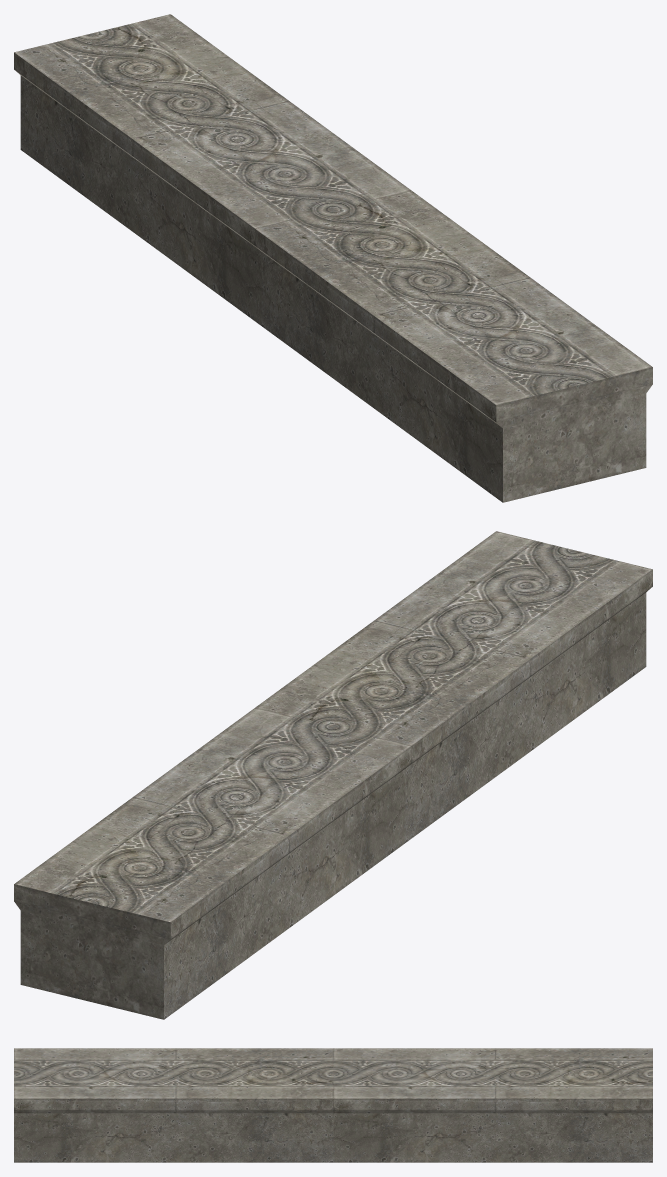
The model's file is bg_lut_lucastle_castleborder01_sm_phs.FBX.
The picture shows the model from 3 angles, top to bottom: view 1: azimuth 30°, elevation 25°; view 2: azimuth 150°, elevation 25°; view 3: azimuth 270°, elevation 25°; orthographic projection. The views are drawn at different scales.
Visible parts, largest first — view 1: bg_lut_lucastle_castleborder01_sm_phs; view 2: bg_lut_lucastle_castleborder01_sm_phs; view 3: bg_lut_lucastle_castleborder01_sm_phs.
Part boxes in pixels (left/top/right/bottom): bg_lut_lucastle_castleborder01_sm_phs: left=14, top=14, right=652, bottom=502; bg_lut_lucastle_castleborder01_sm_phs: left=14, top=531, right=652, bottom=1019; bg_lut_lucastle_castleborder01_sm_phs: left=14, top=1048, right=652, bottom=1162.
Bounding box in the file's own units: 96 × 58 × 512.
